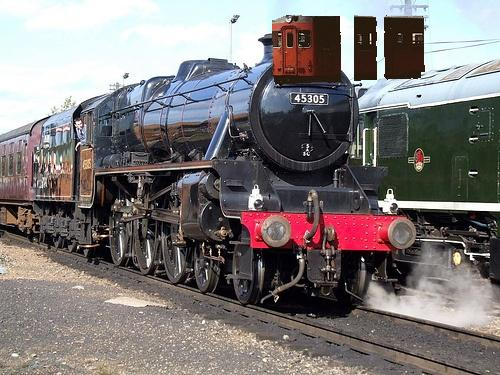tampered: (273, 16, 425, 84)
